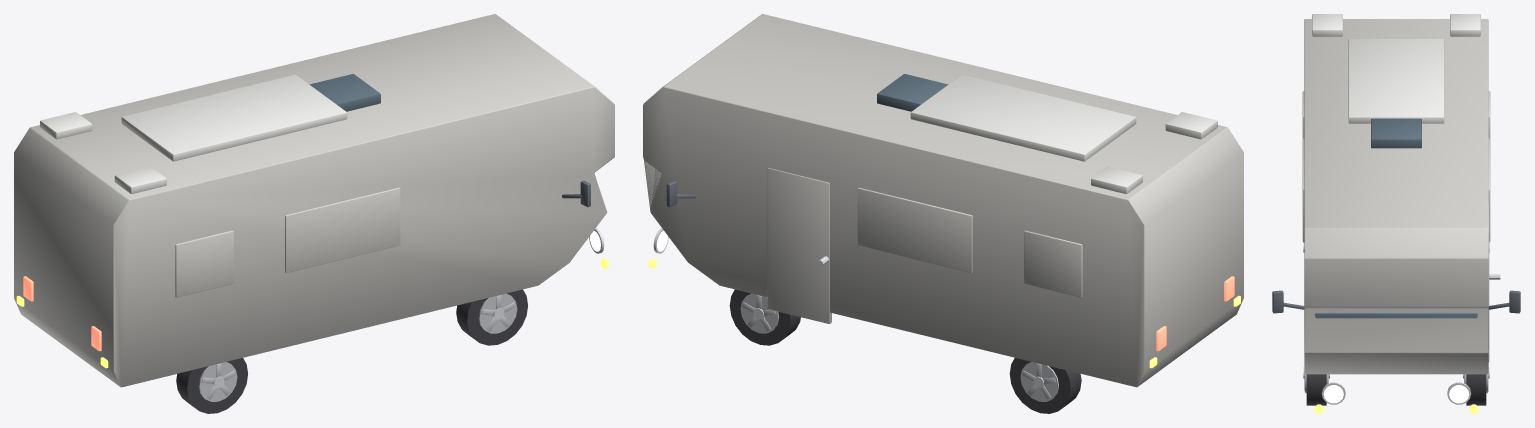
The model's file is th40_wohnmobil.glb.
3 renders of one model, left to right at view 1: azimuth 30°, elevation 25°; view 2: azimuth 150°, elevation 25°; view 3: azimuth 270°, elevation 25°, orthographic. The views are drawn at different scales.
Visible parts, largest first — view 1: Aufbau, Cube.012, Cube.003, Cube.005, Cylinder.007, Cylinder.019, Cube.013, Cube.015, Cube.014, Cylinder.008, Cylinder.020; view 2: Aufbau, Cube.012, Cube.010, Cube.007, Cube.009, Cylinder.025, Cube.013, Cylinder.013, Cube.014, Cube.015, Cylinder.028, Cylinder.016; view 3: Aufbau, Cube.012, Cube.013, Cube, Cube.014, Cube.015, Cylinder.007, Cylinder.013, Cube.003, Cylinder.001, Cylinder.004, Cube.010 (+3 smaller).
Boxes of the visible parts, <box> form: Aufbau: <box>14,14,614,387</box>; Cube.012: <box>121,74,347,161</box>; Cube.003: <box>285,187,400,272</box>; Cube.005: <box>175,230,233,297</box>; Cylinder.007: <box>456,289,527,345</box>; Cylinder.019: <box>176,358,247,413</box>; Cube.013: <box>309,74,380,111</box>; Cube.015: <box>40,112,92,139</box>; Cube.014: <box>114,166,166,193</box>; Cylinder.008: <box>478,293,517,333</box>; Cylinder.020: <box>198,362,237,401</box>; Aufbau: <box>643,14,1243,387</box>; Cube.012: <box>910,74,1136,161</box>; Cube.010: <box>767,168,831,323</box>; Cube.007: <box>857,187,972,272</box>; Cube.009: <box>1024,230,1082,297</box>; Cylinder.025: <box>1009,358,1081,413</box>; Cube.013: <box>877,74,948,111</box>; Cylinder.013: <box>729,289,800,345</box>; Cube.014: <box>1165,112,1217,139</box>; Cube.015: <box>1091,166,1142,193</box>; Cylinder.028: <box>1020,362,1058,401</box>; Cylinder.016: <box>740,293,778,333</box>; Aufbau: <box>1304,19,1488,374</box>; Cube.012: <box>1348,39,1444,123</box>; Cube.013: <box>1371,118,1421,148</box>; Cube: <box>1315,313,1477,318</box>; Cube.014: <box>1312,14,1342,36</box>; Cube.015: <box>1450,14,1480,36</box>; Cylinder.007: <box>1306,374,1326,405</box>; Cylinder.013: <box>1466,374,1486,405</box>; Cube.003: <box>1302,138,1304,242</box>; Cylinder.001: <box>1323,385,1343,403</box>; Cylinder.004: <box>1449,385,1469,403</box>; Cube.010: <box>1488,205,1489,361</box>.
Bounding box in the file's own units: 6.94 × 3.25 × 3.2.
